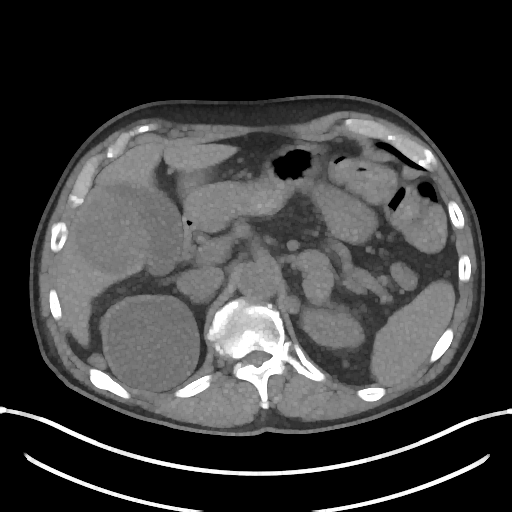Lesion: (98, 294, 203, 394)
